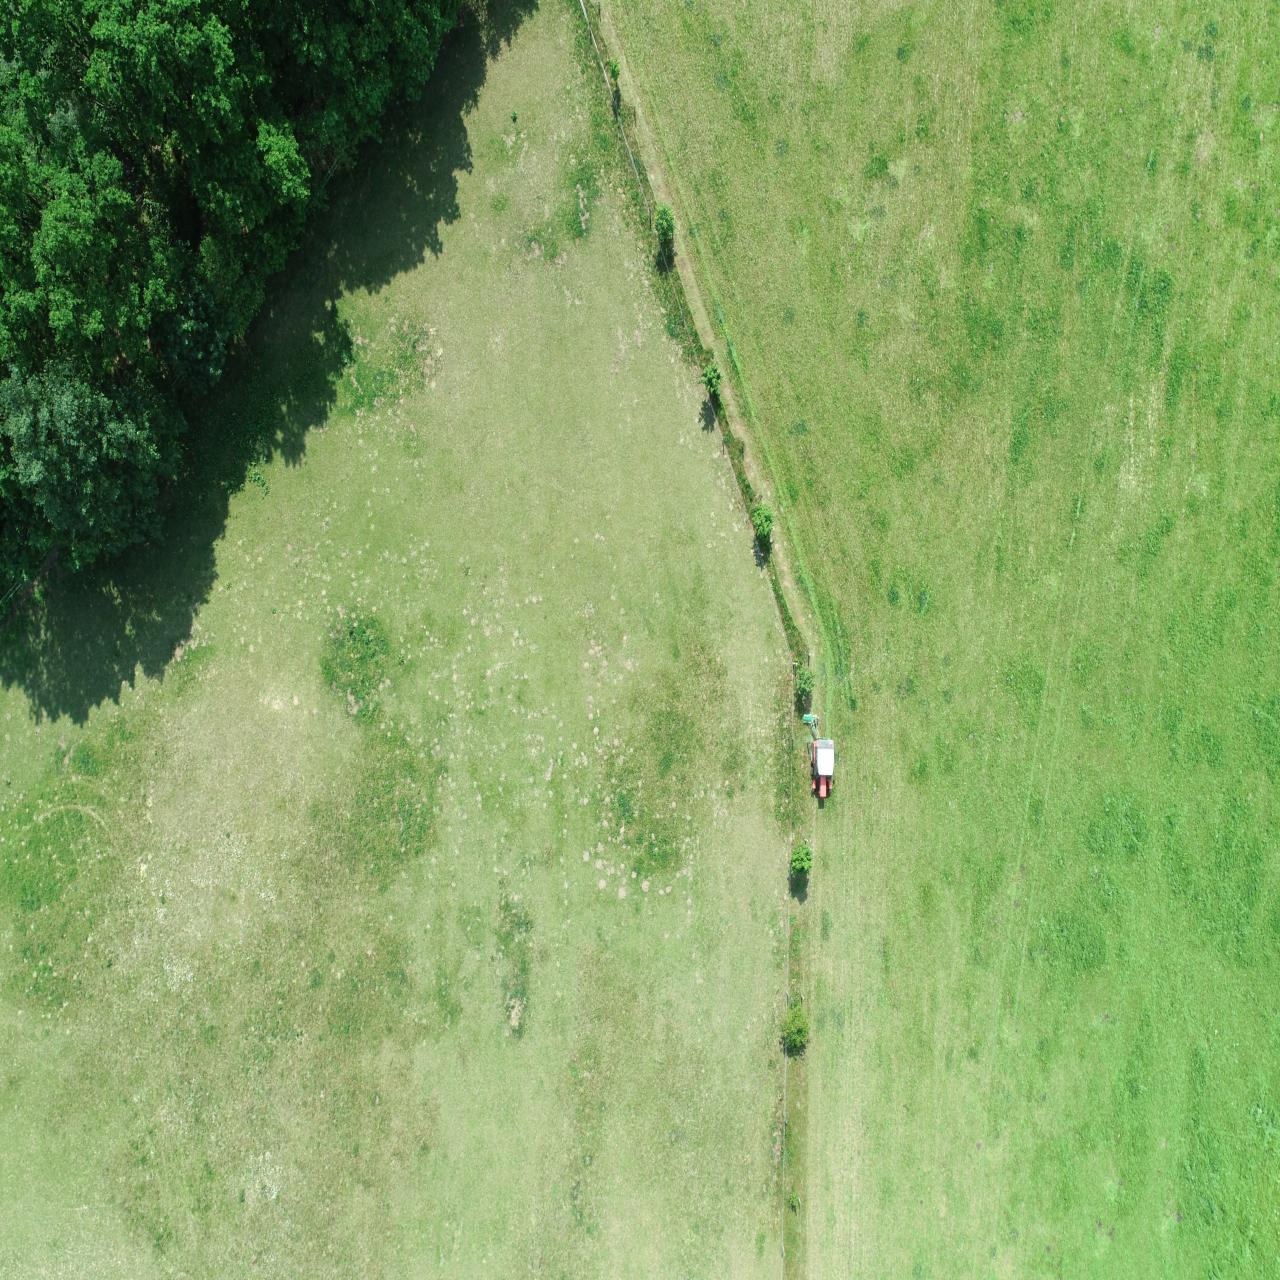cow: (779, 1198, 812, 1258), (557, 182, 576, 241), (547, 95, 583, 125)
